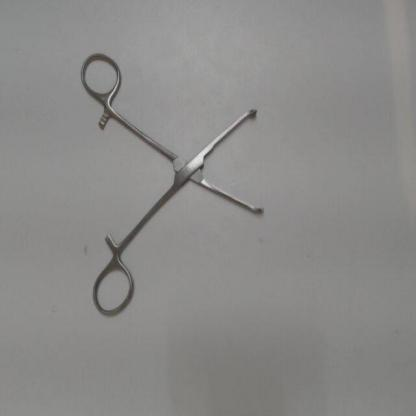Allis Tissue Forceps: (77, 46, 272, 320)
